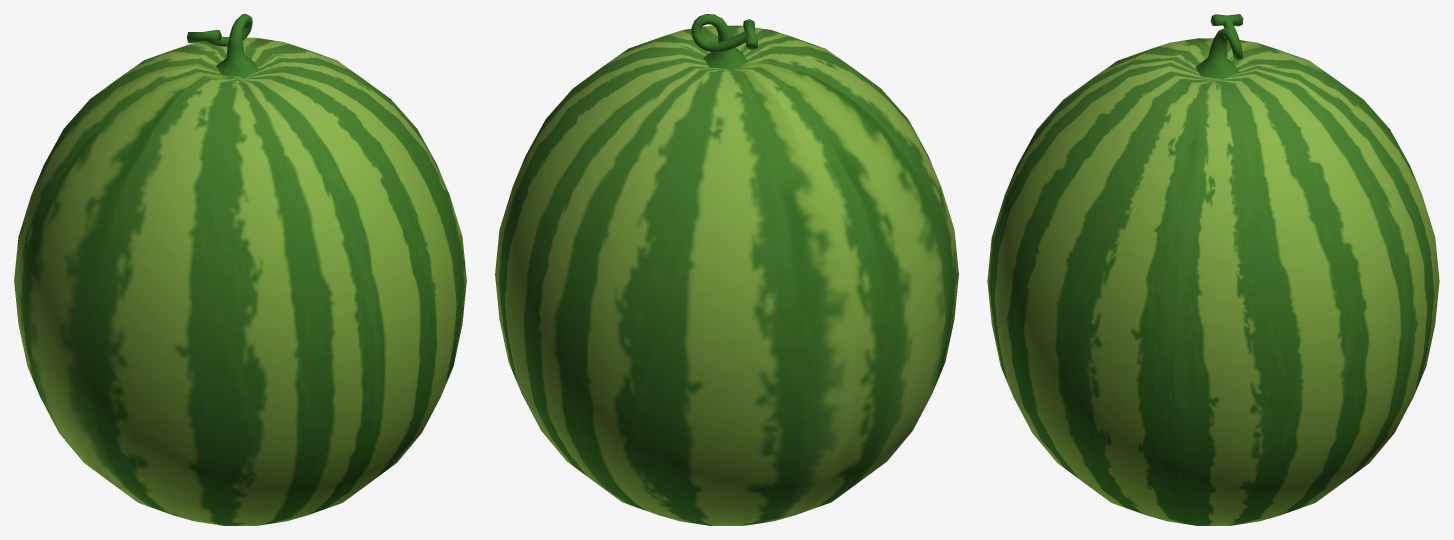
The model's file is Wertermelon.fbx.
3 renders of one model, left to right at view 1: azimuth 30°, elevation 25°; view 2: azimuth 150°, elevation 25°; view 3: azimuth 270°, elevation 25°, orthographic. The views are drawn at different scales.
Visible parts, largest first — view 1: wertermelon; view 2: wertermelon; view 3: wertermelon.
Part boxes in pixels (left/top/right/bottom): wertermelon: left=14, top=14, right=466, bottom=525; wertermelon: left=495, top=14, right=958, bottom=525; wertermelon: left=987, top=14, right=1439, bottom=525.
Bounding box in the file's own units: 197 × 231 × 200.
